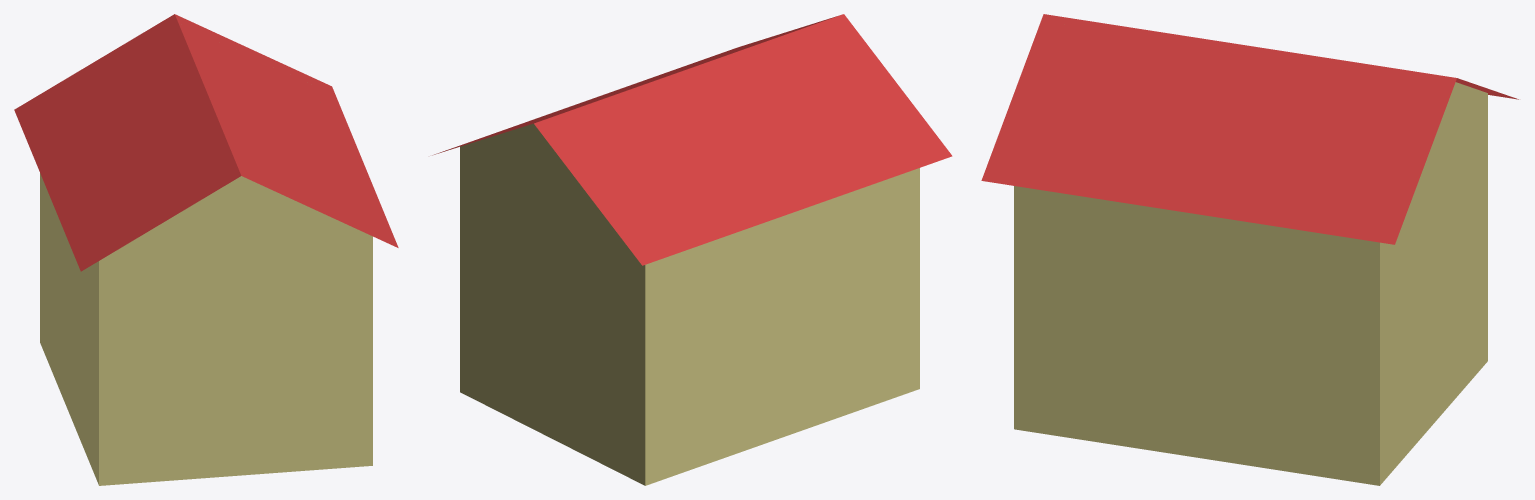
The picture shows the model from 3 angles, left to right: view 1: azimuth 30°, elevation 25°; view 2: azimuth 150°, elevation 25°; view 3: azimuth 270°, elevation 25°; orthographic projection. The views are drawn at different scales.
Parts seen in each view (by area): view 1: group_5, group_3, group_4; view 2: group_5, group_3, group_4; view 3: group_5, group_3, group_4.
Boxes of the visible parts, x1,y1,x2,y2 form: group_5: [40, 173, 372, 485]; group_3: [14, 14, 398, 271]; group_4: [14, 14, 397, 264]; group_5: [460, 123, 919, 485]; group_3: [464, 14, 952, 265]; group_4: [432, 15, 948, 265]; group_5: [1014, 82, 1487, 485]; group_3: [981, 14, 1518, 242]; group_4: [983, 14, 1516, 244].
Bounding box in the file's own units: 14.63 × 15.96 × 11.43.
